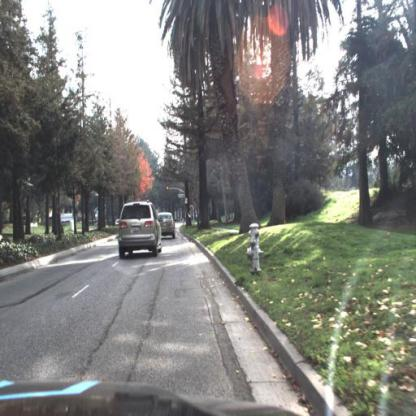car: (115, 197, 171, 264), (158, 210, 176, 241)
trafficLight-Red: (167, 185, 171, 193)
